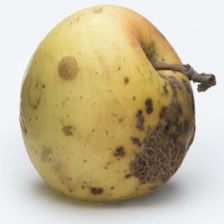apple: (57, 23, 199, 213)
